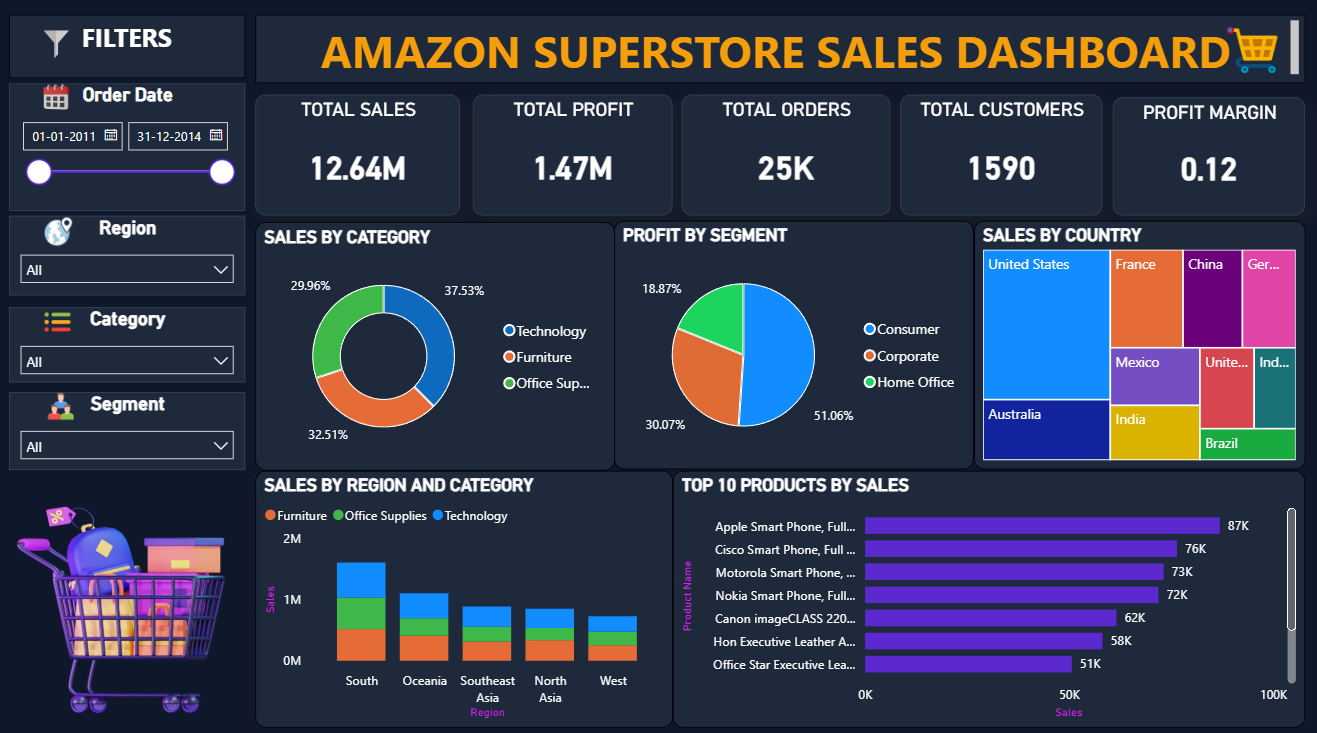

The page's visual inventory and layout, read from the dashboard file:
{"tool":"powerbi","page":{"name":"Page 1","canvas":[1280,720],"ordinal":0},"visuals":[{"type":"textbox","box":[247.3,16.9,1013.4,66.4],"z":0},{"type":"card","title":"TOTAL SALES","fields":{"Values":["Orders.Total Sales"]},"box":[247,94.7,197.6,116.6],"z":1000},{"type":"card","title":"TOTAL PROFIT","fields":{"Values":["Orders.Total Profit"]},"box":[457.2,94.1,193,117],"z":2000},{"type":"card","title":"TOTAL ORDERS","fields":{"Values":["Orders.Total Orders"]},"box":[658.7,94.1,201.5,117],"z":3000},{"type":"card","title":"TOTAL CUSTOMERS","fields":{"Values":["Orders.Total Customers"]},"box":[870,94.7,194.9,116.6],"z":4000},{"type":"card","title":"PROFIT MARGIN","fields":{"Values":["Orders.Profit Margin %"]},"box":[1074.9,96.5,185.8,114.6],"z":5000},{"type":"slicer","title":"Region","fields":{"Values":["Orders.Region"]},"box":[9.6,211.3,227.8,76.8],"z":6000},{"type":"slicer","title":"Category","fields":{"Values":["Orders.Category"]},"box":[9.6,299.1,227.8,72.7],"z":7000},{"type":"slicer","title":"Segment","fields":{"Values":["Orders.Segment"]},"box":[9.6,381.5,227.8,75.5],"z":8000},{"type":"slicer","title":"Order Date","fields":{"Values":["Orders.Order Date"]},"box":[9.6,83.7,227.8,123.5],"z":9000},{"type":"donutChart","title":" SALES BY CATEGORY","fields":{"Category":["Orders.Category"],"Y":["Orders.Total Sales"]},"box":[247,216.8,347.2,240.1],"z":10000},{"type":"pieChart","title":" PROFIT BY SEGMENT","fields":{"Category":["Orders.Segment"],"Y":["Orders.Total Profit"]},"box":[594.2,215.4,347.2,240.1],"z":11000},{"type":"treemap","title":"SALES BY COUNTRY","fields":{"Values":["Orders.Total Sales"],"Group":["Orders.Country"]},"box":[941.3,215.4,319.7,240.1],"z":12000},{"type":"columnChart","title":"SALES BY REGION AND CATEGORY","fields":{"Category":["Orders.Region"],"Series":["Orders.Category"],"Y":["Orders.Total Sales"]},"box":[247,456.9,403.4,248.4],"z":13000},{"type":"clusteredBarChart","title":"TOP 10 PRODUCTS BY SALES","fields":{"Y":["Orders.Total Sales"],"Category":["Orders.Product Name"]},"box":[650.4,456.9,610.6,248.4],"z":14000},{"type":"textbox","box":[9.6,16.5,227.8,61.7],"z":15000},{"type":"image","box":[1158.2,21.7,102.5,55.5],"z":16000},{"type":"image","box":[9.6,16.5,91.9,57.6],"z":17000},{"type":"image","box":[0,76.8,109.8,38.4],"z":18000},{"type":"image","box":[6.9,211.3,100.2,30.2],"z":19000},{"type":"image","box":[4.1,299.1,105.7,28.8],"z":20000},{"type":"image","box":[17.8,381.5,83.7,27.4],"z":21000},{"type":"image","box":[9.6,474.8,227.8,230.5],"z":22000}]}

Visuals, with their boxes in screenshot pixels (x1, y1, x2, y2), scaled from the page's 1280x720 canvas onto the 1317x733 screenshot:
textbox: BBox(254, 17, 1297, 85)
"TOTAL SALES" card: BBox(254, 96, 457, 215)
"TOTAL PROFIT" card: BBox(470, 96, 669, 215)
"TOTAL ORDERS" card: BBox(678, 96, 885, 215)
"TOTAL CUSTOMERS" card: BBox(895, 96, 1096, 215)
"PROFIT MARGIN" card: BBox(1106, 98, 1297, 215)
"Region" slicer: BBox(10, 215, 244, 293)
"Category" slicer: BBox(10, 305, 244, 379)
"Segment" slicer: BBox(10, 388, 244, 465)
"Order Date" slicer: BBox(10, 85, 244, 211)
" SALES BY CATEGORY" donutChart: BBox(254, 221, 611, 465)
" PROFIT BY SEGMENT" pieChart: BBox(611, 219, 969, 464)
"SALES BY COUNTRY" treemap: BBox(969, 219, 1297, 464)
"SALES BY REGION AND CATEGORY" columnChart: BBox(254, 465, 669, 718)
"TOP 10 PRODUCTS BY SALES" clusteredBarChart: BBox(669, 465, 1297, 718)
textbox: BBox(10, 17, 244, 80)
image: BBox(1192, 22, 1297, 79)
image: BBox(10, 17, 104, 75)
image: BBox(0, 78, 113, 117)
image: BBox(7, 215, 110, 246)
image: BBox(4, 305, 113, 334)
image: BBox(18, 388, 104, 416)
image: BBox(10, 483, 244, 718)
